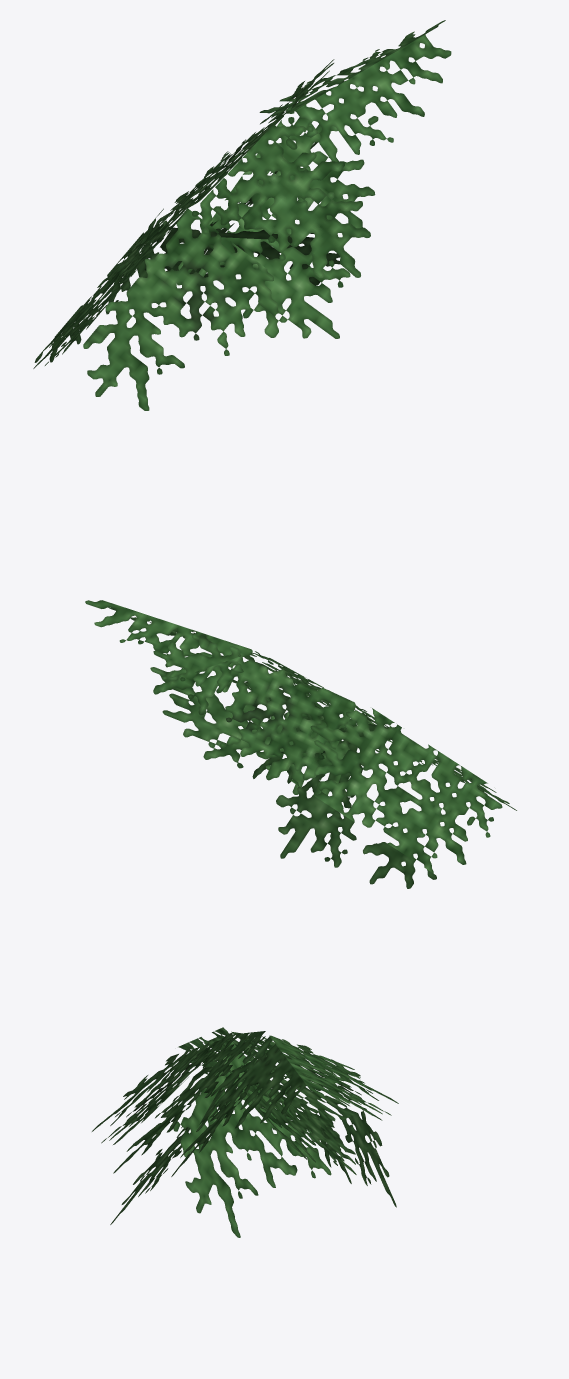
Rendered from spruce_leaves_3.obj.
3 views of the same model, one above another, from view 1: azimuth 30°, elevation 25°; view 2: azimuth 150°, elevation 25°; view 3: azimuth 270°, elevation 25° (orthographic). The views are drawn at different scales.
Visible parts, largest first — view 1: plane, cube; view 2: plane, cube; view 3: cube, plane.
Part boxes in pixels (x1,y1,x2,y2): plane: (33, 20, 451, 410); cube: (145, 59, 370, 285); plane: (85, 600, 516, 888); cube: (150, 634, 376, 837); cube: (113, 1031, 398, 1237); plane: (92, 1027, 396, 1224).
Bounding box in the file's own units: 3.45 × 2.25 × 2.56.
